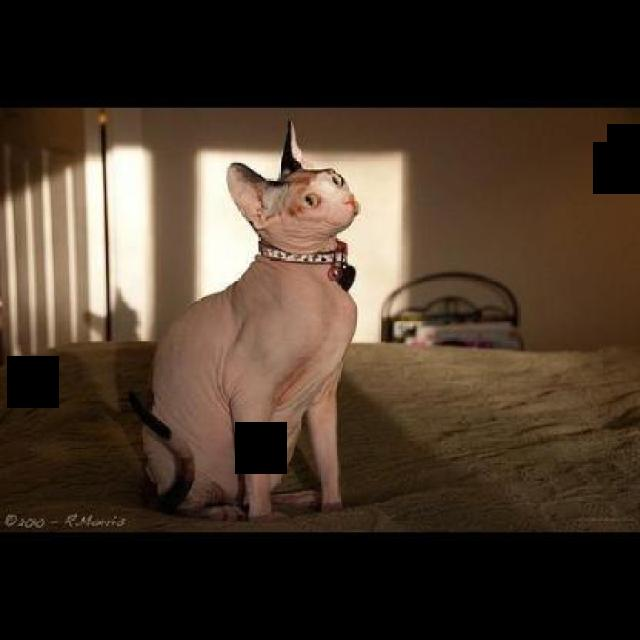unauthorized: (128, 117, 360, 521)
